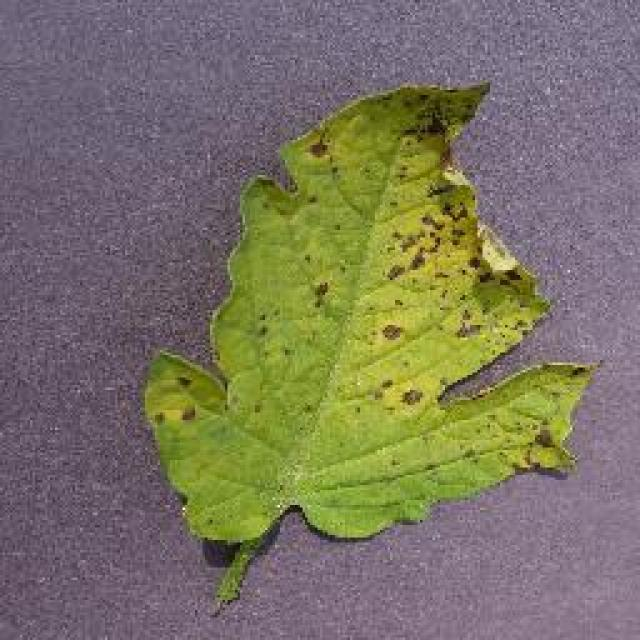Tomato target spot leaf: (141, 81, 594, 546)
